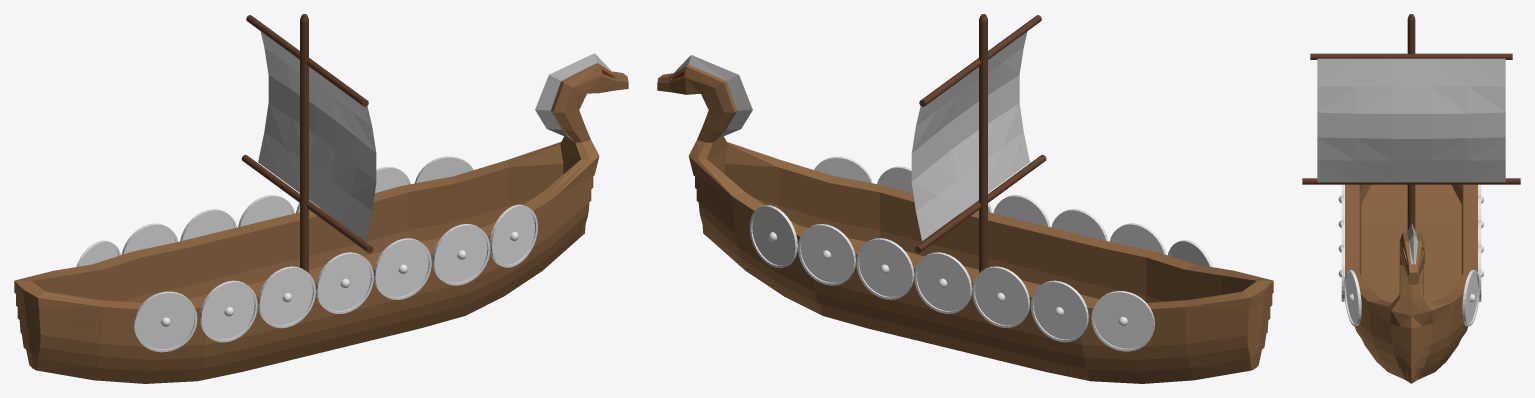
File: Drakkar.dae
The picture shows the model from 3 angles, left to right: view 1: azimuth 30°, elevation 25°; view 2: azimuth 150°, elevation 25°; view 3: azimuth 270°, elevation 25°; orthographic projection. The views are drawn at different scales.
Visible parts, largest first — view 1: Cylinder; view 2: Cylinder; view 3: Cylinder.
Part boxes in pixels (<box>): Cylinder: <box>14,14,628,383</box>; Cylinder: <box>657,14,1273,383</box>; Cylinder: <box>1302,14,1520,383</box>.
Size of the model in its own units: 8.07 by 2.9 by 4.05.
2 materials, 1 textured.
